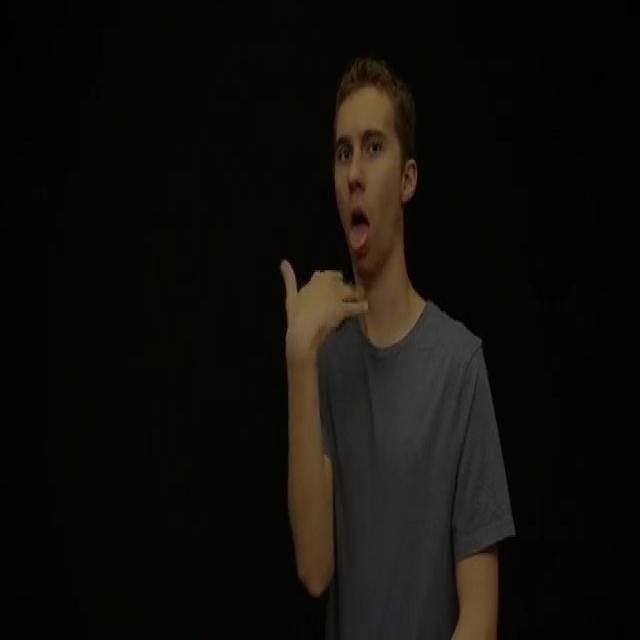spicy: (276, 248, 376, 366)
